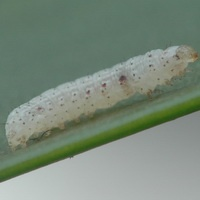insect: (5, 46, 197, 149)
